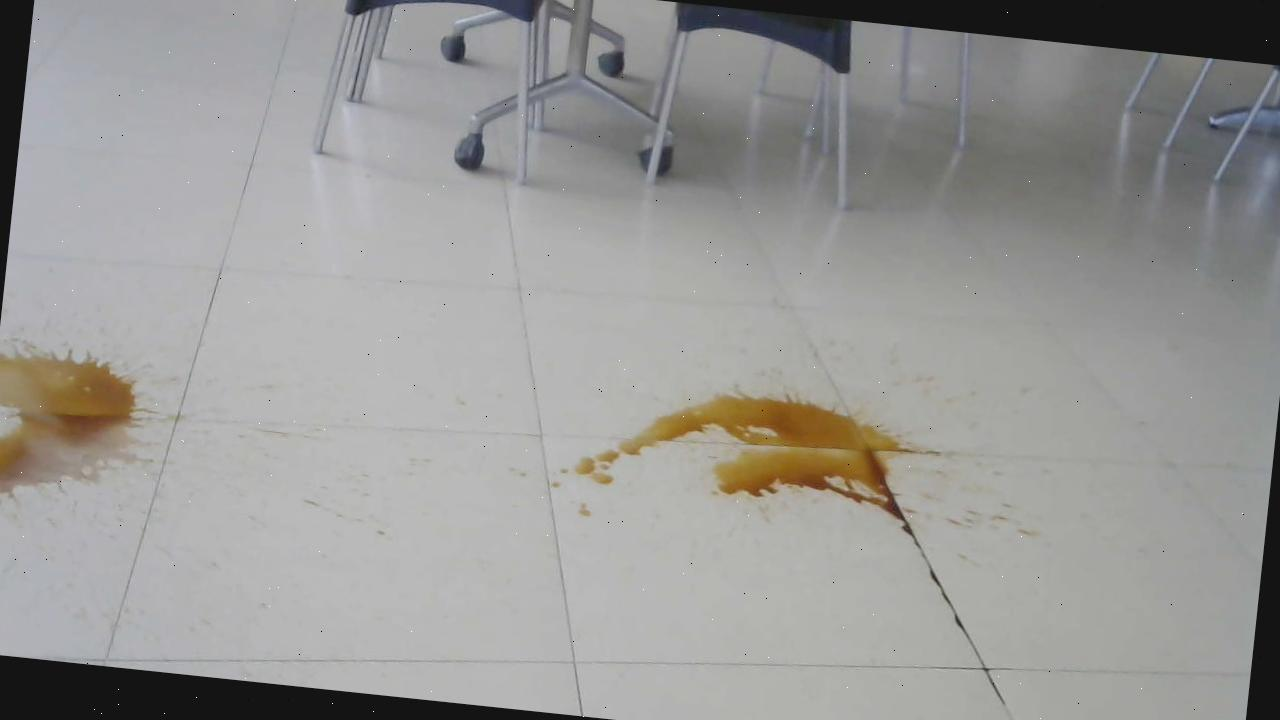dirty_floor: (521, 350, 1003, 617)
